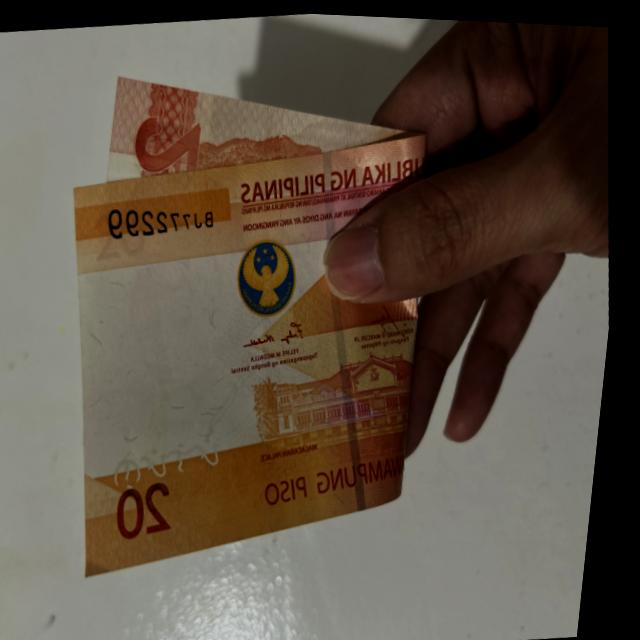security_thread: (315, 149, 382, 506)
see_through_mark: (109, 439, 239, 493)
serial_number: (104, 185, 238, 247)
watermark: (80, 265, 258, 455)
